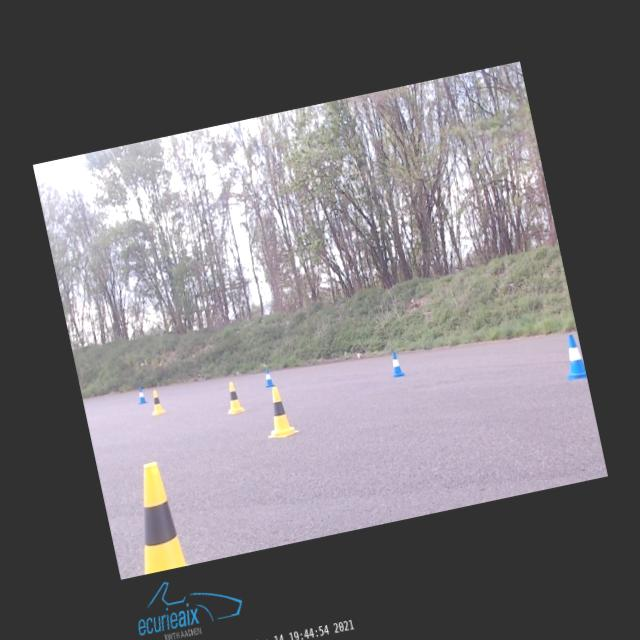blue_cone: (558, 334, 586, 381), (388, 351, 404, 376), (261, 367, 274, 388), (135, 386, 147, 404)
yellow_cone: (122, 460, 186, 572), (258, 384, 298, 438), (220, 380, 244, 414), (146, 388, 166, 416)
